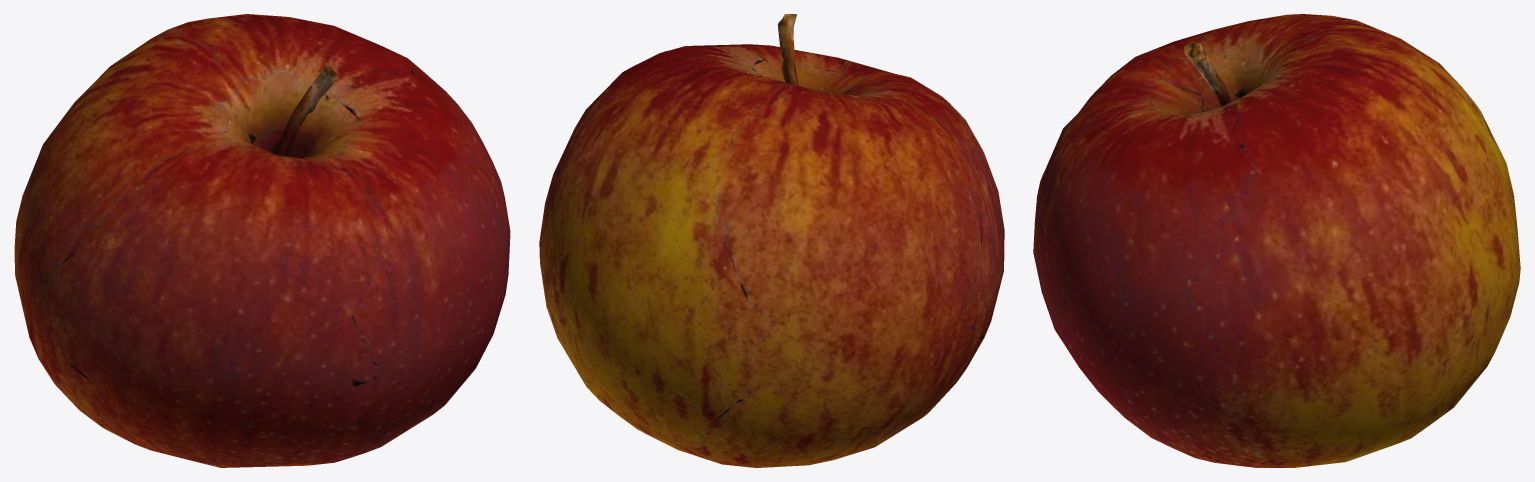
The model's file is food_apple_01.glb.
3 renders of one model, left to right at view 1: azimuth 30°, elevation 25°; view 2: azimuth 150°, elevation 25°; view 3: azimuth 270°, elevation 25°, orthographic. The views are drawn at different scales.
Parts seen in each view (by area): view 1: food_apple_01; view 2: food_apple_01; view 3: food_apple_01.
Part boxes in pixels (x1,y1,x2,y2): food_apple_01: (14, 14, 510, 467); food_apple_01: (539, 14, 1004, 467); food_apple_01: (1033, 14, 1520, 467).
Bounding box in the file's own units: 0.0969 × 0.0854 × 0.0958.
Materials: 1 (1 with a texture image).
